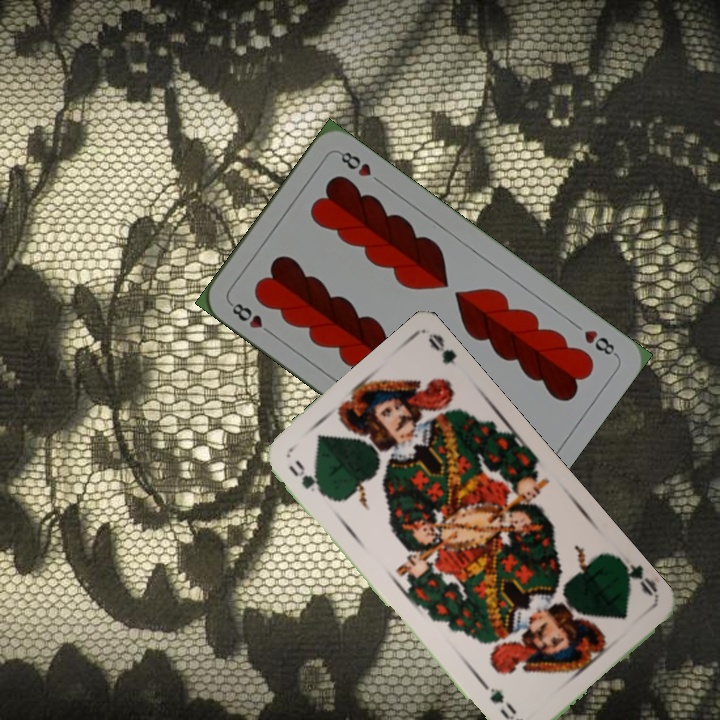GO: (615, 554, 661, 600), (284, 456, 330, 500)
H8: (225, 298, 276, 338), (580, 325, 620, 359)
